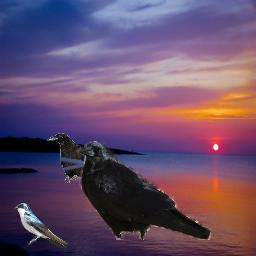Crow: (76, 141, 211, 240), (47, 133, 85, 183)
Swallow: (14, 203, 68, 248)
